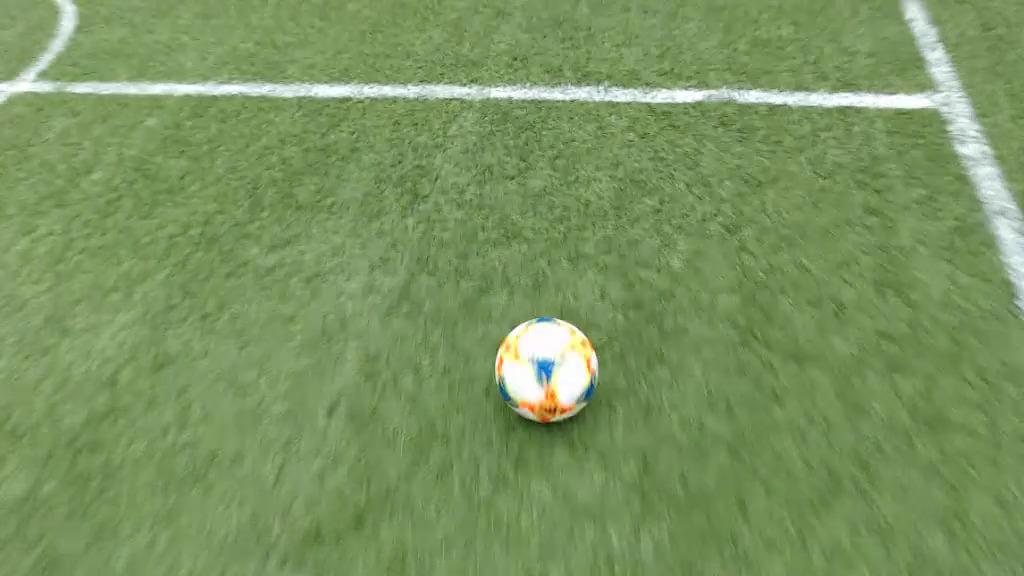ball: (496, 317, 599, 424)
